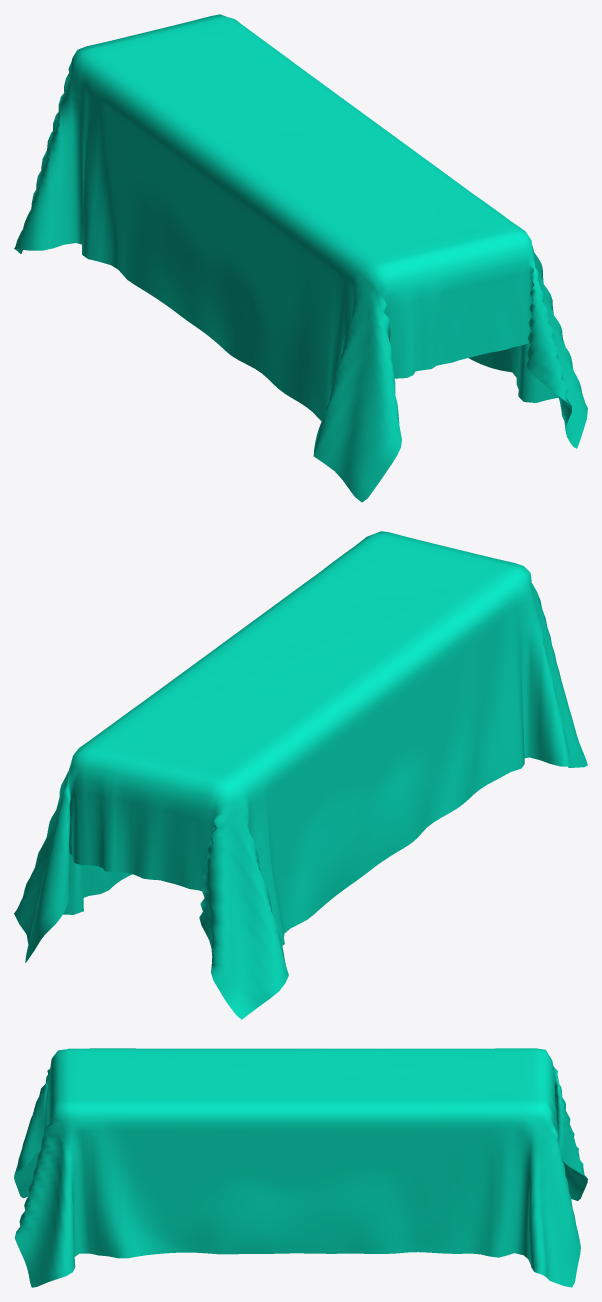
Rendered from cloth_low_res.fbx.
3 views of the same model, one above another, from view 1: azimuth 30°, elevation 25°; view 2: azimuth 150°, elevation 25°; view 3: azimuth 270°, elevation 25° (orthographic). The views are drawn at different scales.
Parts seen in each view (by area): view 1: Plane; view 2: Plane; view 3: Plane.
Boxes of the visible parts, left/top/right/bottom form: Plane: left=14, top=14, right=587, bottom=502; Plane: left=14, top=531, right=587, bottom=1019; Plane: left=14, top=1048, right=587, bottom=1287.
Size of the model in its own units: 330 by 247 by 756.
